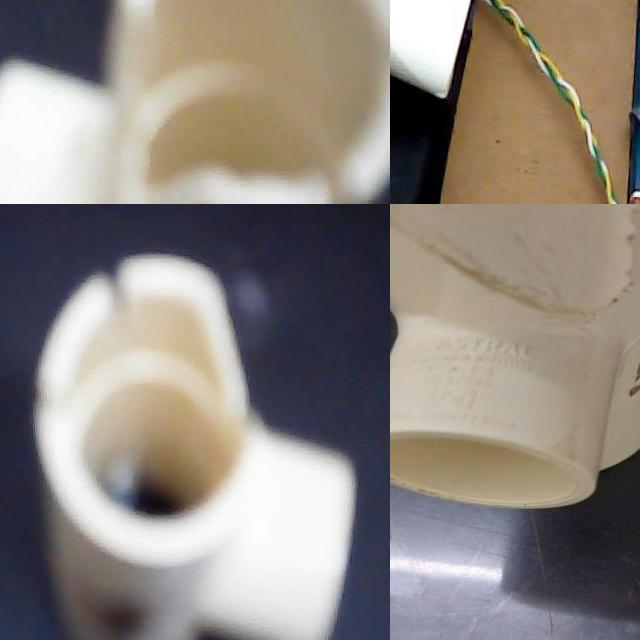Defective: (392, 206, 568, 331), (194, 269, 314, 442), (103, 12, 206, 204), (360, 0, 390, 204), (614, 204, 640, 328), (286, 158, 350, 204), (98, 260, 138, 305), (626, 350, 640, 404)
